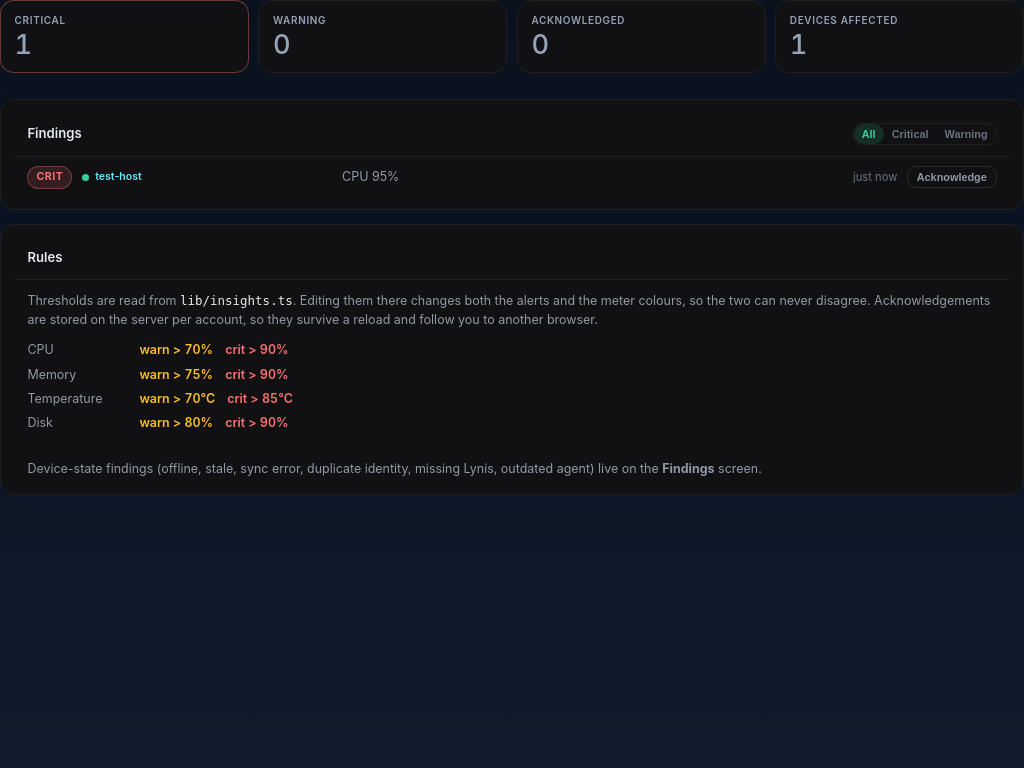
Test: Alerts screen › brings the finding back when the acknowledgement cannot be saved
Expected: the text "CPU 95%" is shown, 342,169 -> 399,184
Click the button "Acknowledge". click: (952,177)
box: 907,166 -> 997,188
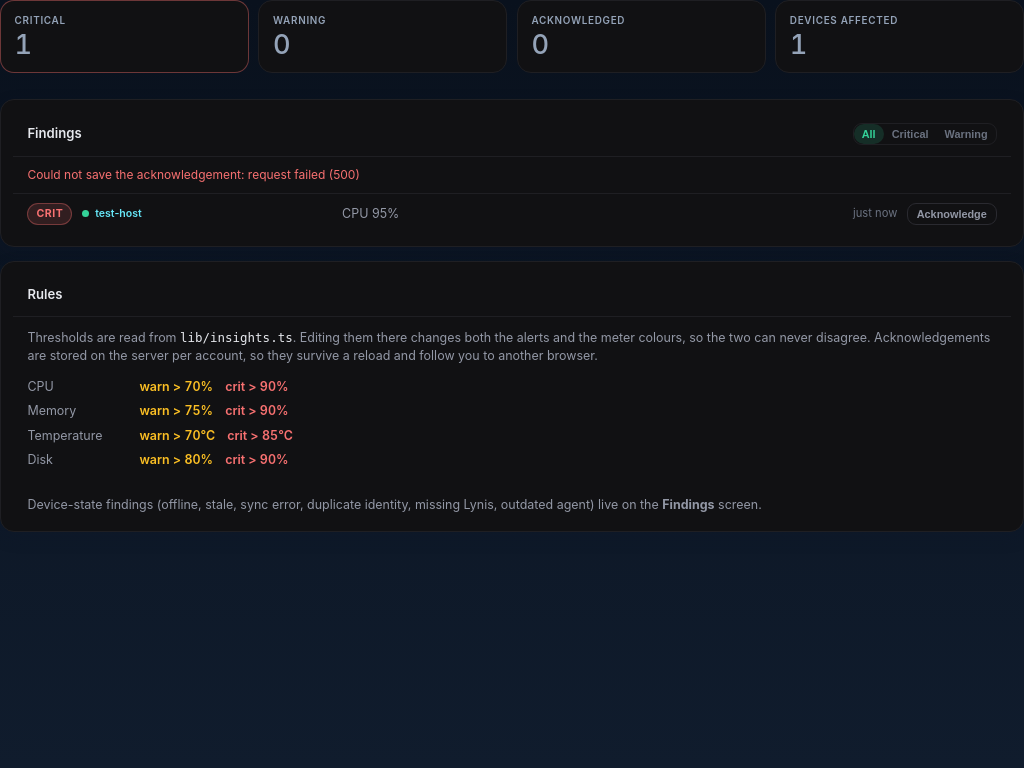
Expected: the text "CPU 95%" is shown, 342,206 -> 399,220
Now the message shows "Could not save", box 27,167 -> 360,182
